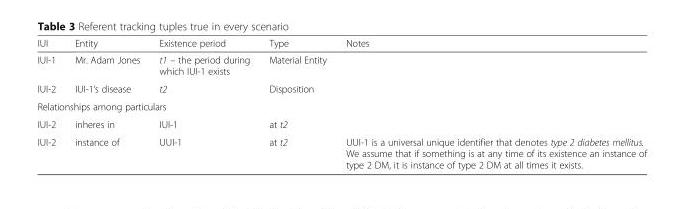table: (36, 37, 646, 169)
table column: (335, 37, 646, 169), (148, 37, 258, 169), (64, 37, 148, 169), (258, 37, 335, 169), (36, 37, 64, 169)
table column header: (36, 37, 646, 51)
table projected row header: (36, 97, 646, 115)
table row: (36, 132, 646, 169), (36, 51, 646, 79), (36, 79, 646, 97), (36, 97, 646, 115), (36, 115, 646, 132), (36, 37, 646, 51)
